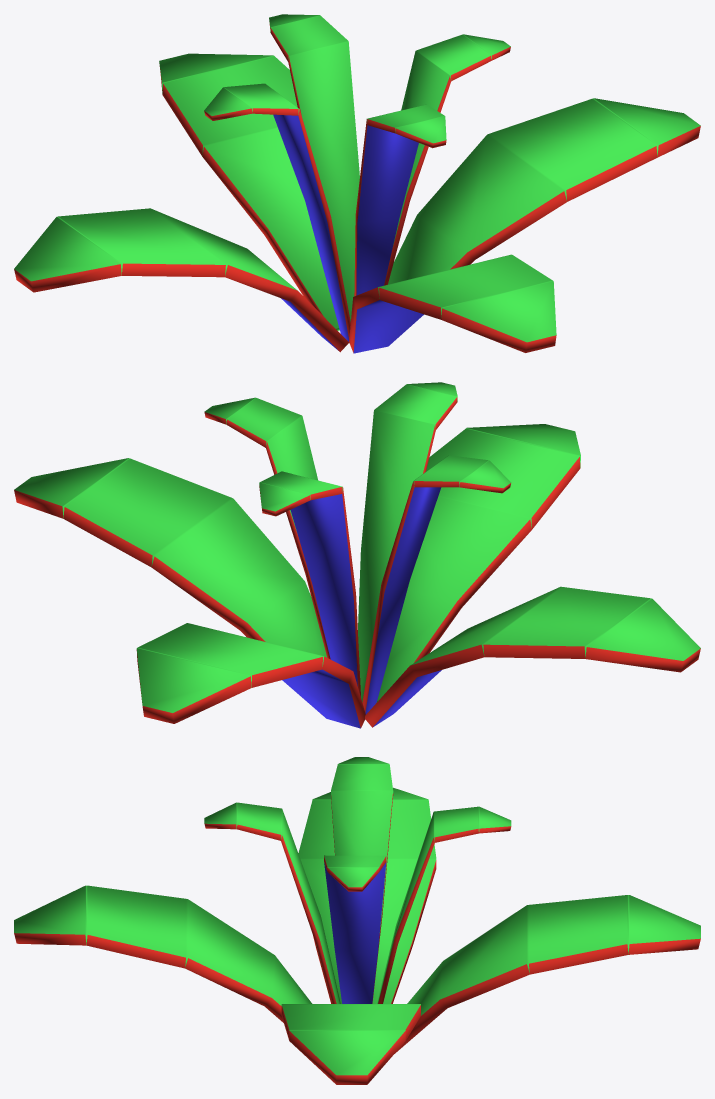
File: plant.fbx
3 renders of one model, top to bottom at view 1: azimuth 30°, elevation 25°; view 2: azimuth 150°, elevation 25°; view 3: azimuth 270°, elevation 25°, orthographic. The views are drawn at different scales.
Visible parts, largest first — view 1: Plane.007; view 2: Plane.007; view 3: Plane.007.
Boxes of the visible parts, x1=… form: Plane.007: x1=14, y1=14, x2=700, y2=353; Plane.007: x1=14, y1=382, x2=700, y2=728; Plane.007: x1=14, y1=757, x2=700, y2=1084.
Size of the model in its own units: 1431 by 554 by 1425.
